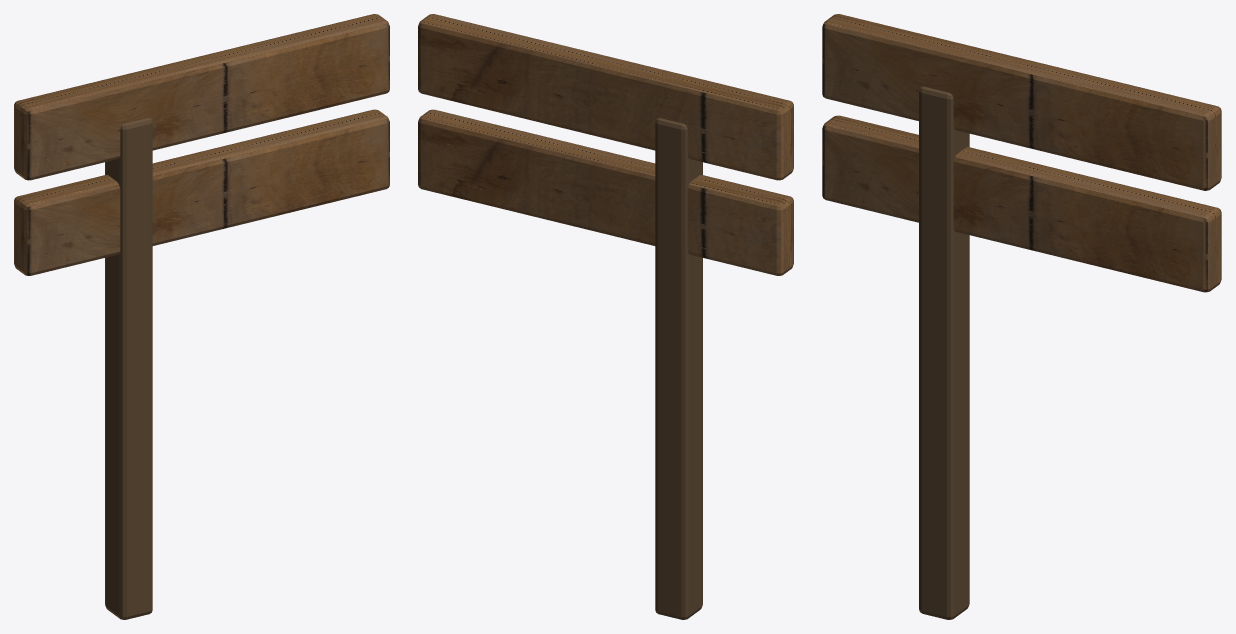
Rendered from sign.glb.
The picture shows the model from 3 angles, left to right: view 1: azimuth 30°, elevation 25°; view 2: azimuth 150°, elevation 25°; view 3: azimuth 330°, elevation 25°; orthographic projection. The views are drawn at different scales.
Parts seen in each view (by area): view 1: sign board, sign post; view 2: sign board, sign post; view 3: sign board, sign post.
Boxes of the visible parts, x1=… form: sign board: x1=14, y1=14, x2=389, y2=275; sign post: x1=105, y1=118, x2=152, y2=619; sign board: x1=418, y1=14, x2=793, y2=275; sign post: x1=655, y1=118, x2=702, y2=619; sign board: x1=822, y1=14, x2=1221, y2=292; sign post: x1=919, y1=86, x2=969, y2=619.
Size of the model in its own units: 2 by 2.79 by 0.18.
Materials: 2 (1 with a texture image).
